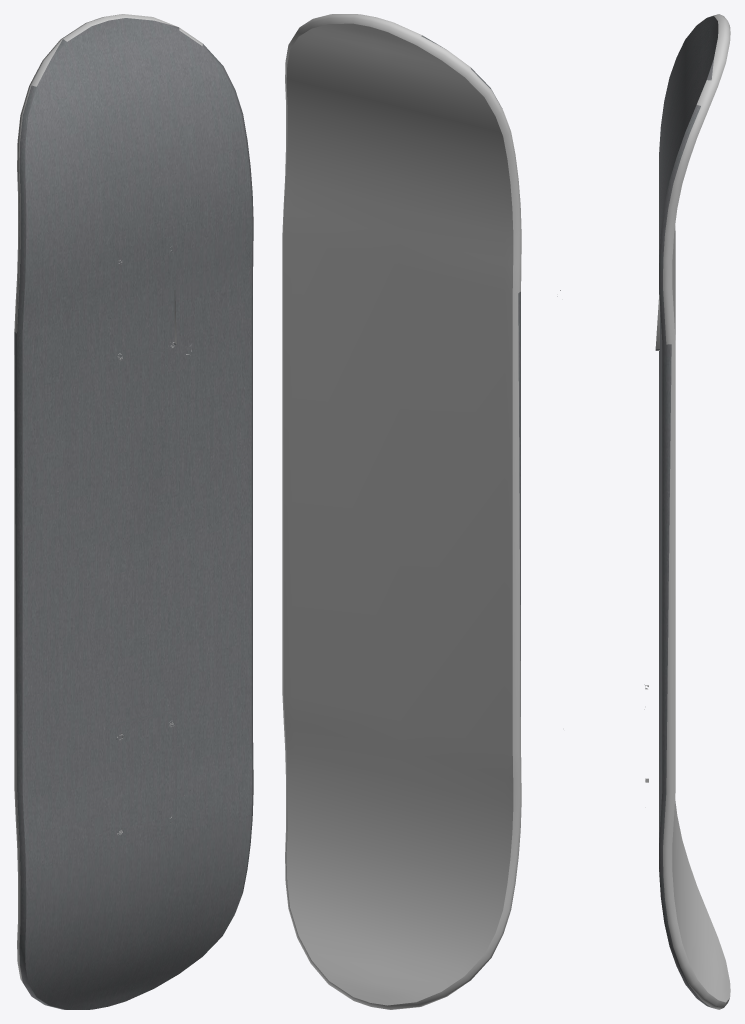
3 views of the same model, side by side, from view 1: azimuth 30°, elevation 25°; view 2: azimuth 150°, elevation 25°; view 3: azimuth 270°, elevation 25° (orthographic).
Visible parts, largest first — view 1: Base_Skateboard_0; view 2: Base_Skateboard_0; view 3: Base_Skateboard_0.
Part boxes in pixels (x1,y1,x2,y2): Base_Skateboard_0: (14, 14, 253, 1009); Base_Skateboard_0: (282, 14, 521, 1009); Base_Skateboard_0: (557, 14, 730, 1009).
Bounding box in the file's own units: 20.1 × 80.57 × 13.02.
